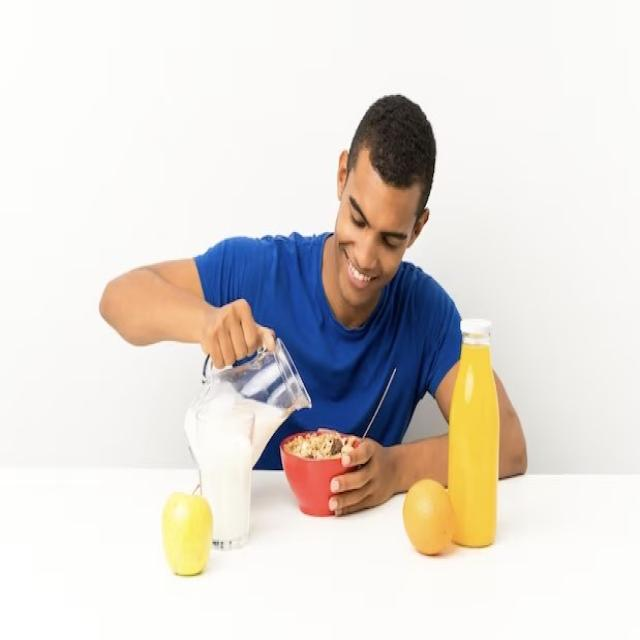eating-person: (84, 78, 538, 597)
